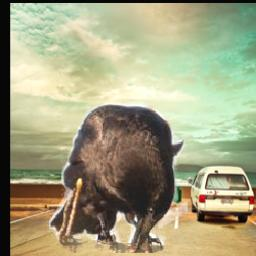Crow: (47, 102, 188, 254)
